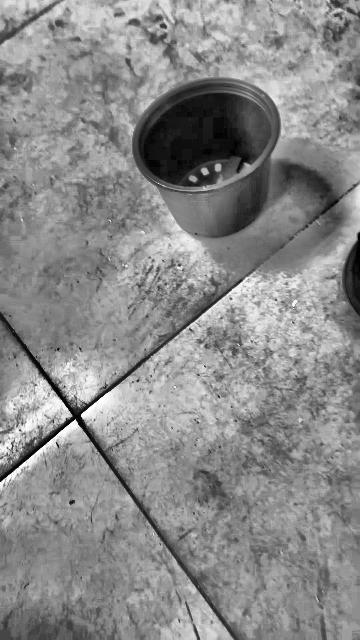pot: (133, 79, 281, 239), (1, 598, 96, 639)
